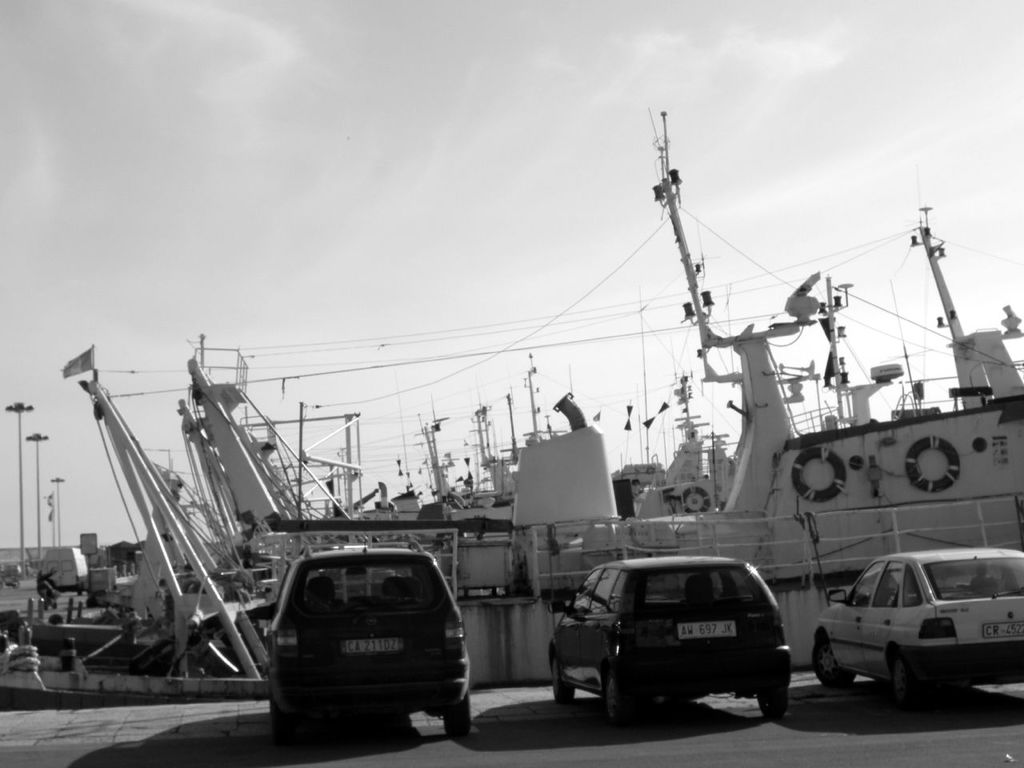cars: (539, 555, 799, 729), (256, 538, 476, 743), (801, 545, 1022, 698)
